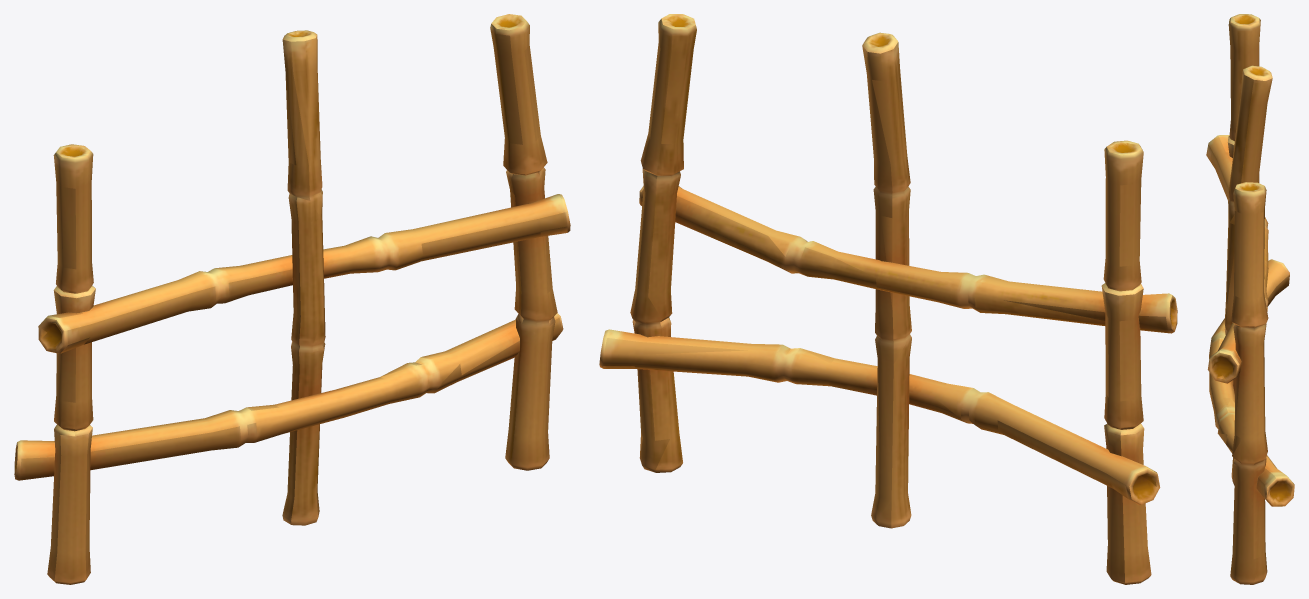
Rendered from bamboo_fence.glb.
The picture shows the model from 3 angles, left to right: view 1: azimuth 30°, elevation 25°; view 2: azimuth 150°, elevation 25°; view 3: azimuth 270°, elevation 25°; orthographic projection. The views are drawn at different scales.
Parts seen in each view (by area): view 1: mesh; view 2: mesh; view 3: mesh.
Part boxes in pixels (<box>): mesh: <box>14,14,570,584</box>; mesh: <box>599,14,1177,584</box>; mesh: <box>1206,14,1294,584</box>.
Bounding box in the file's own units: 1.46 × 1.22 × 0.2355.
Materials: 1 (1 with a texture image).
